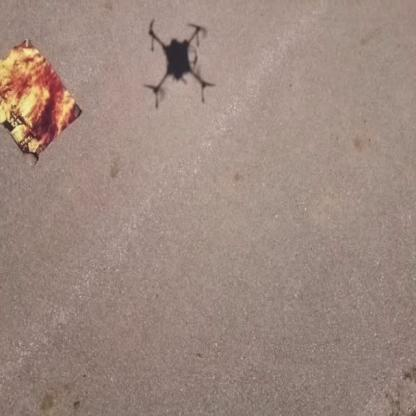fire-poster: (0, 36, 83, 165)
